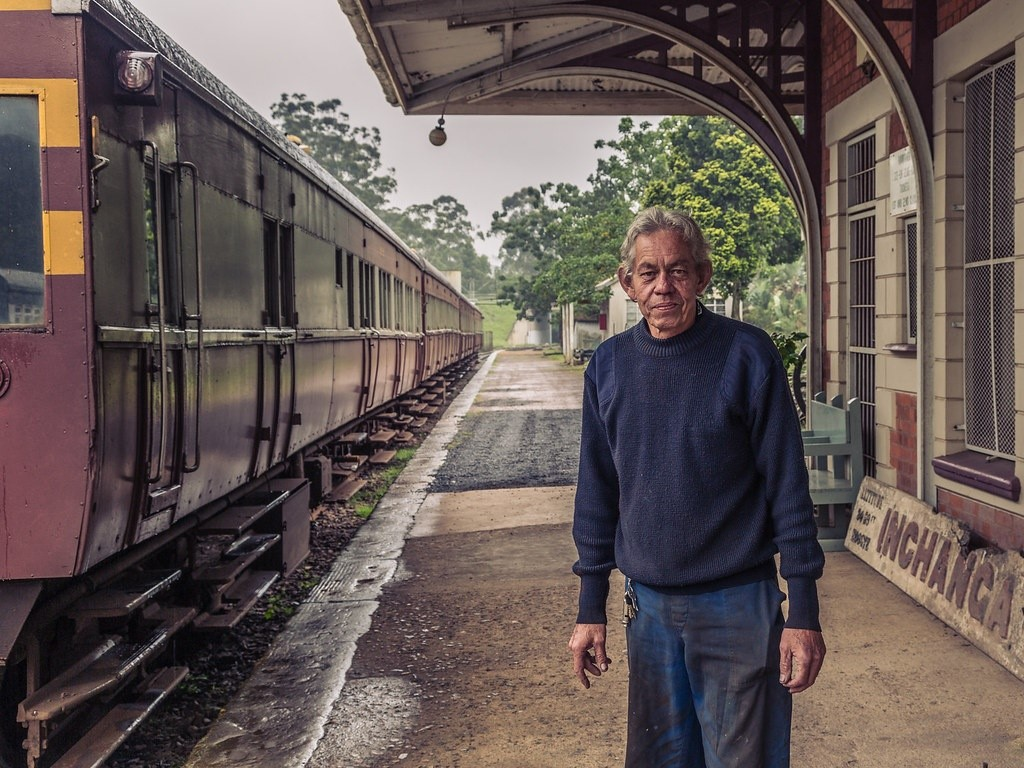face_no_mask: (617, 207, 711, 330)
